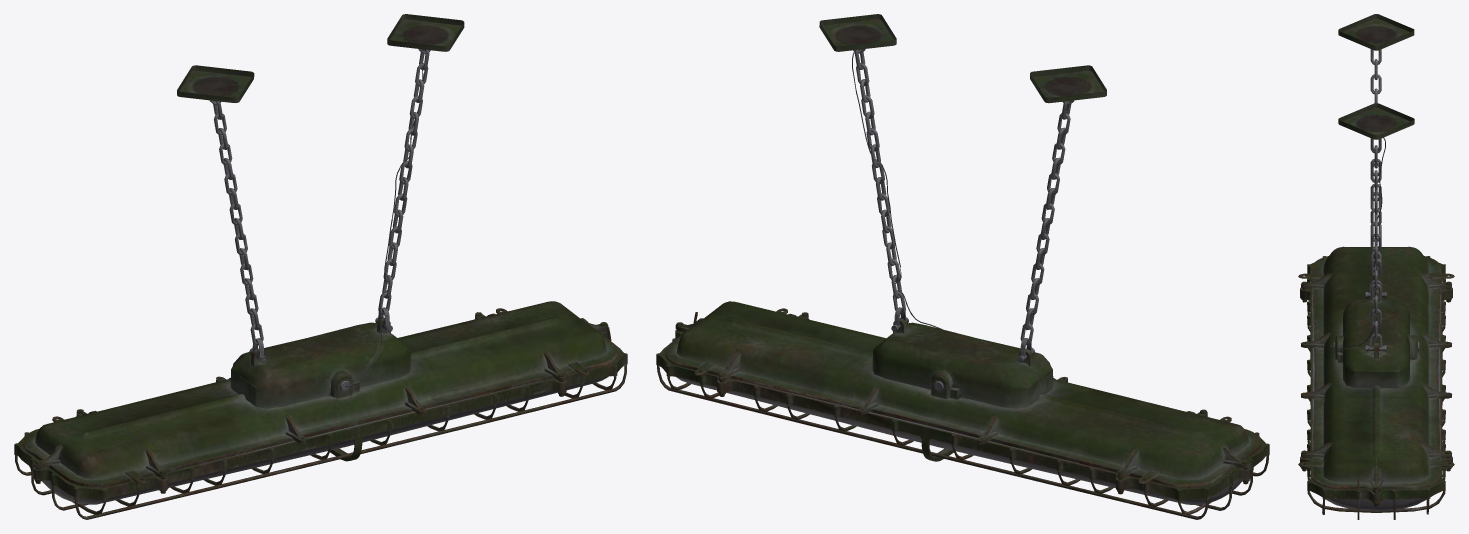
Rendered from ph_caged_hanging_light.glb.
The picture shows the model from 3 angles, left to right: view 1: azimuth 30°, elevation 25°; view 2: azimuth 150°, elevation 25°; view 3: azimuth 270°, elevation 25°; orthographic projection. The views are drawn at different scales.
Visible parts, largest first — view 1: caged_hanging_light; view 2: caged_hanging_light; view 3: caged_hanging_light.
Boxes of the visible parts, bbox=[...] form: caged_hanging_light: bbox=[14, 14, 627, 519]; caged_hanging_light: bbox=[656, 14, 1269, 519]; caged_hanging_light: bbox=[1298, 14, 1454, 519].
Bounding box in the file's own units: 1.16 × 0.7501 × 0.3149.
Materials: 1 (1 with a texture image).
